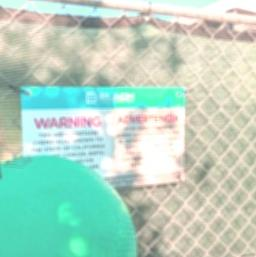algae: (0, 156, 133, 257)
